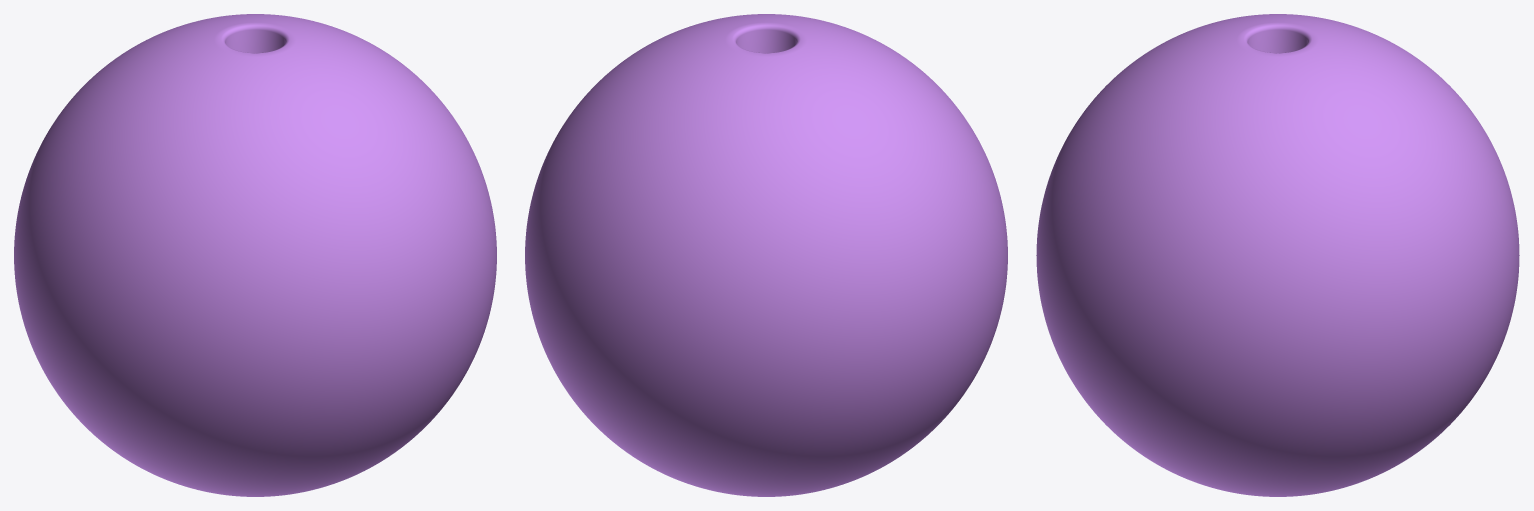
The model's file is amethyst-clear-8mm.glb.
3 views of the same model, side by side, from view 1: azimuth 30°, elevation 25°; view 2: azimuth 150°, elevation 25°; view 3: azimuth 270°, elevation 25° (orthographic).
Visible parts, largest first — view 1: 冰透紫水晶; view 2: 冰透紫水晶; view 3: 冰透紫水晶.
Boxes of the visible parts, x1,y1,x2,y2 form: 冰透紫水晶: (14,14,496,496); 冰透紫水晶: (525,14,1007,496); 冰透紫水晶: (1036,14,1519,496).
Bounding box in the file's own units: 0.008 × 0.00792 × 0.008.
